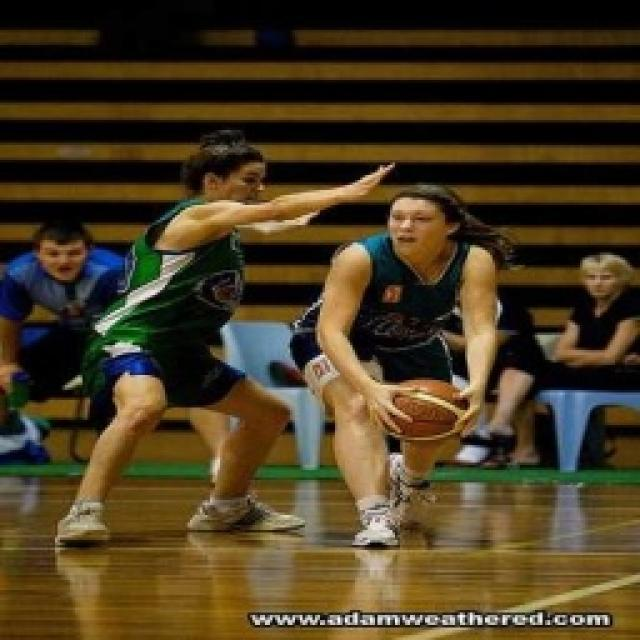rim: (373, 368, 476, 452)
